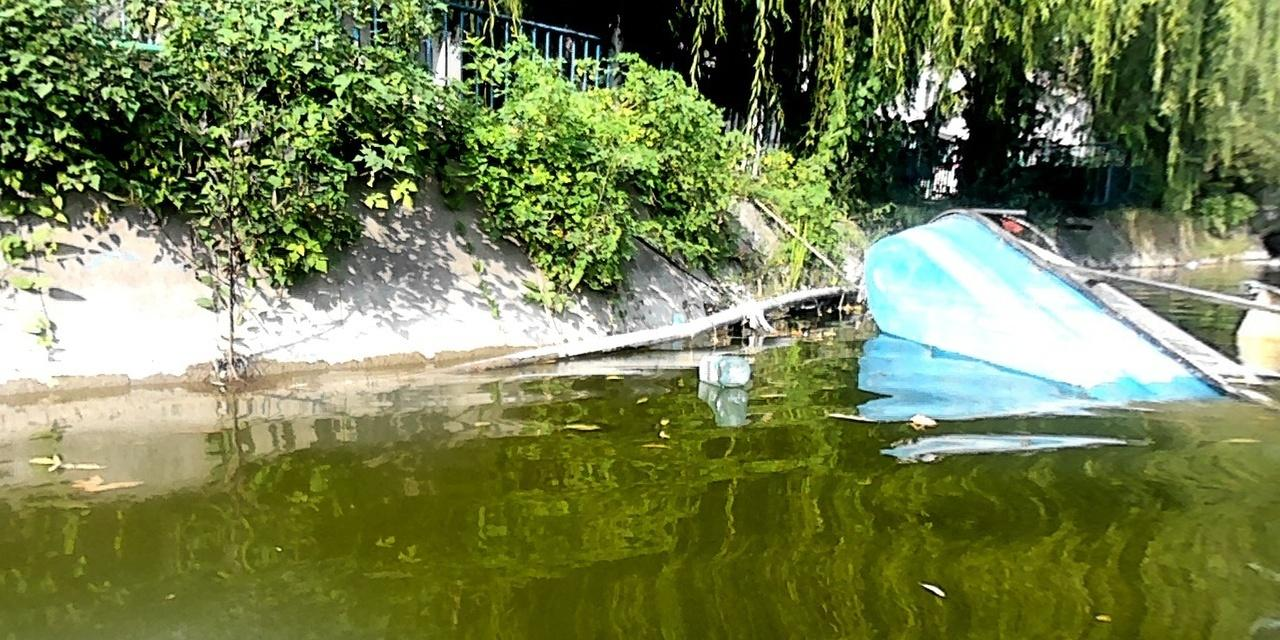bottle: (696, 351, 751, 387)
